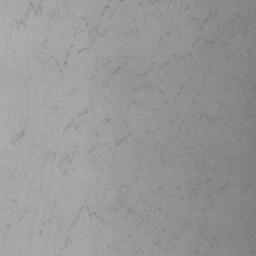Silk spot: (43, 117, 228, 256), (85, 0, 256, 123), (9, 0, 124, 73), (19, 200, 57, 235), (195, 224, 219, 254), (57, 110, 88, 130), (7, 118, 29, 145), (242, 84, 256, 117)
